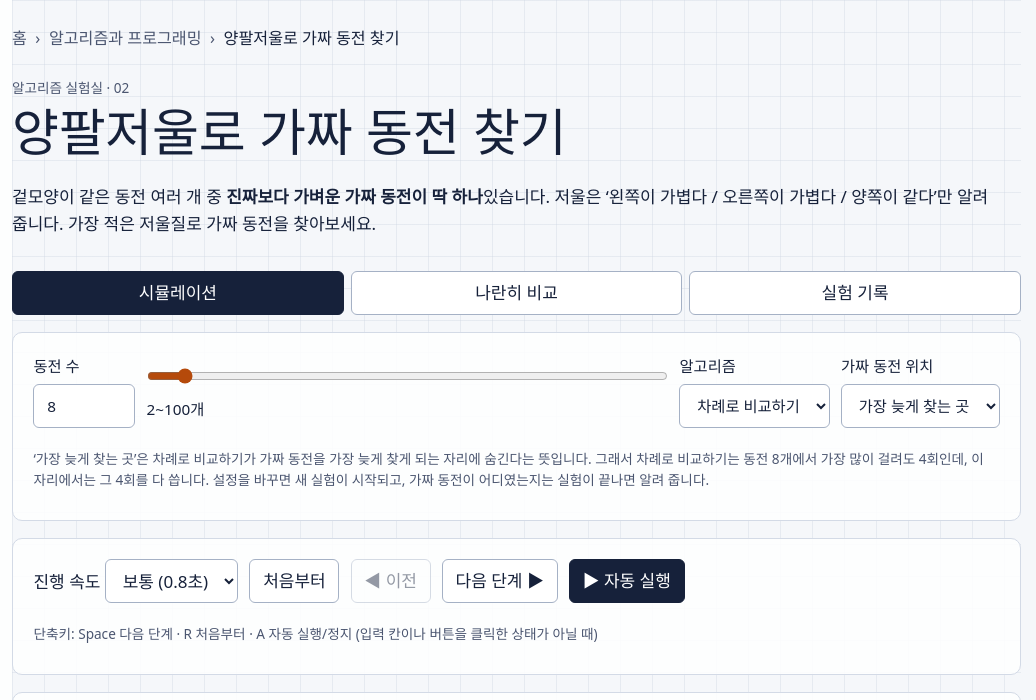
자동 실행 중에는 Space로 단계를 끼워 넣지 않는다
Click the button "▶ 자동 실행".
click(627, 582)  # box [569,560,685,604]
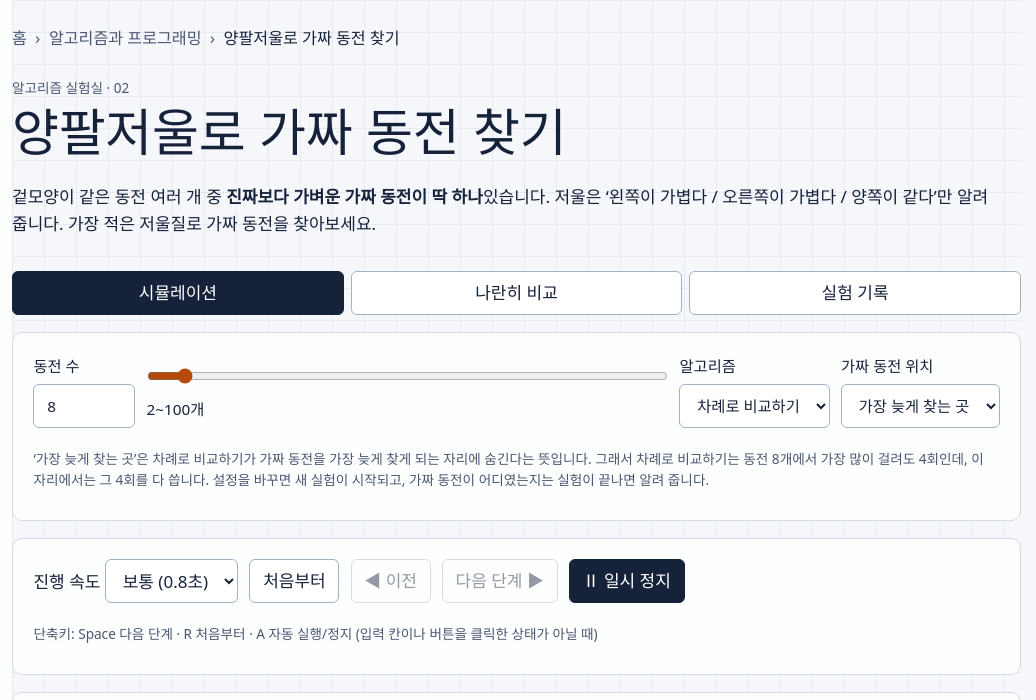
Press Space
Wait 800 ms
(page scrolled)
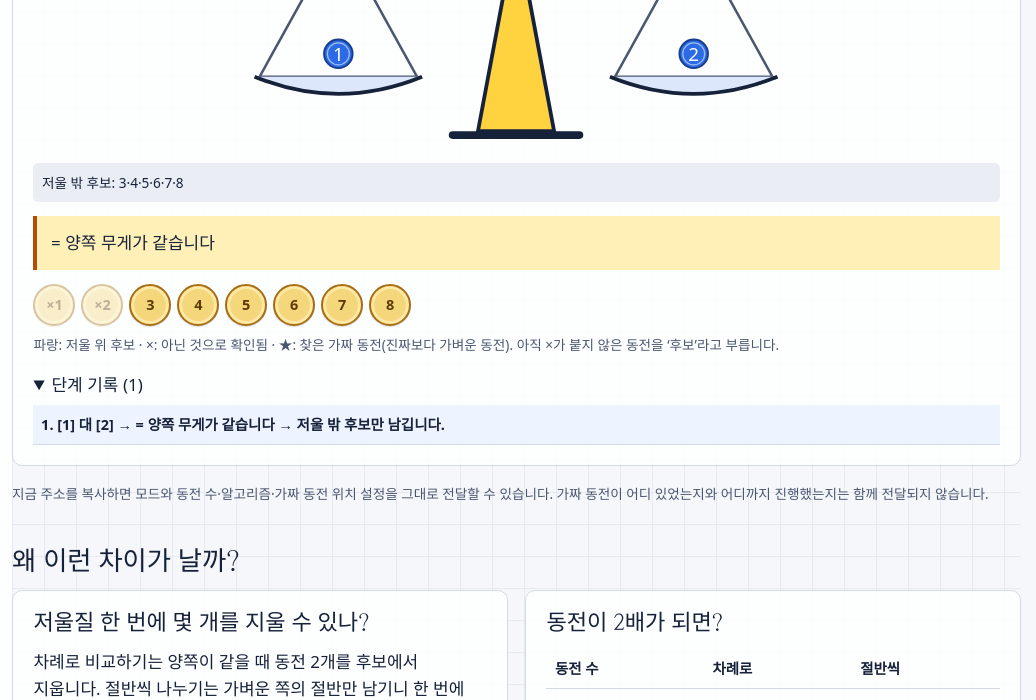
Now the heading "단계 기록 (1)" is shown, box [52,373,143,396]
